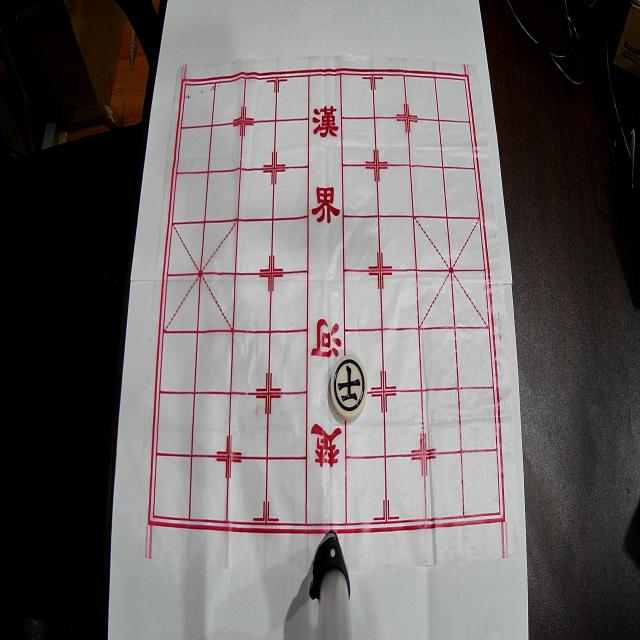black-guard: (330, 355, 368, 420)
